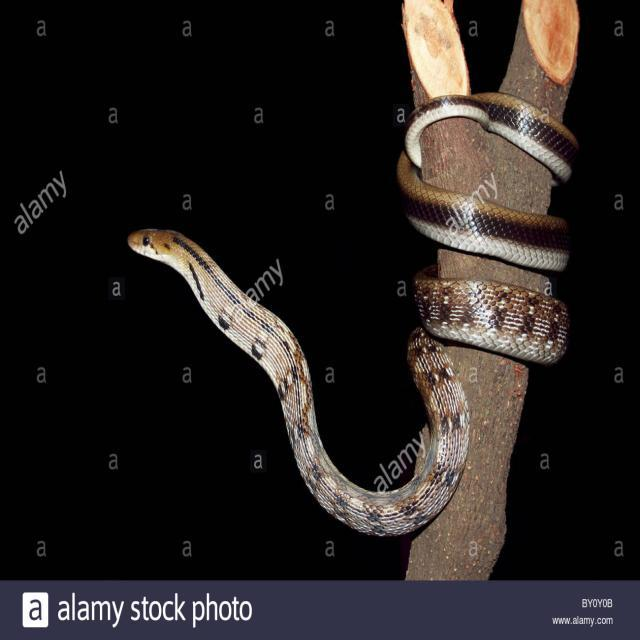Snake: (126, 0, 580, 538)
